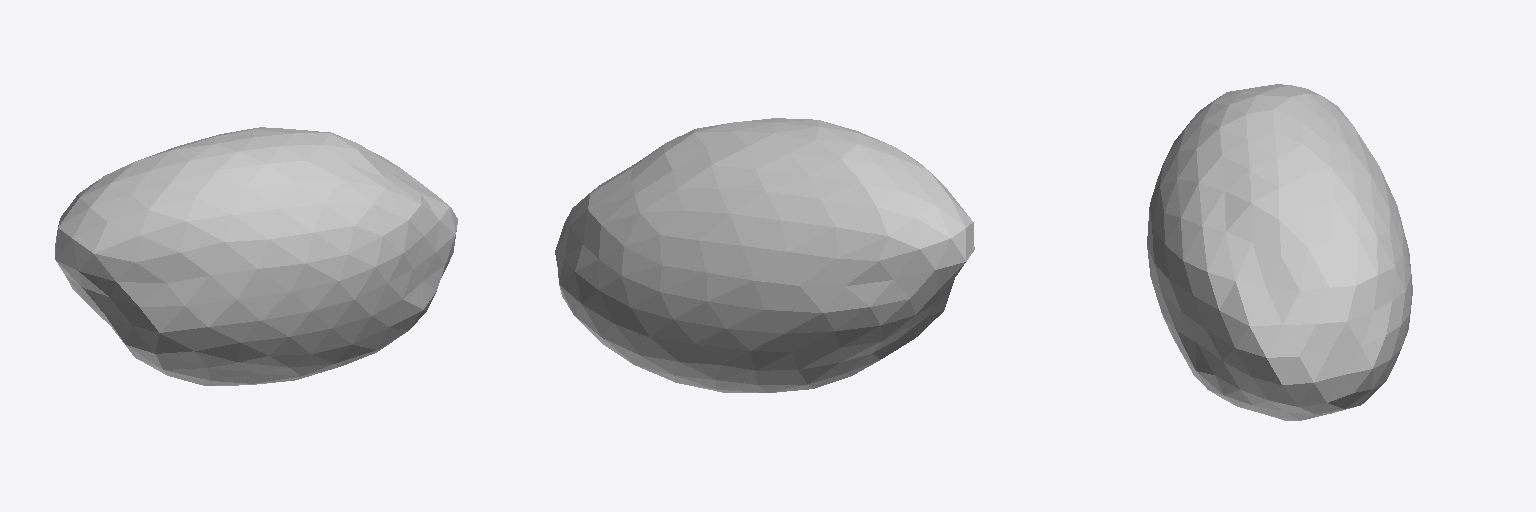
The model's file is potatoes.obj.
The picture shows the model from 3 angles: view 1: azimuth 30°, elevation 25°; view 2: azimuth 150°, elevation 25°; view 3: azimuth 270°, elevation 25°; orthographic projection.
Visible parts, largest first — view 1: PotatoC; view 2: PotatoC; view 3: PotatoC.
Boxes of the visible parts, box(x1,y1,x2,y2) form: PotatoC: box(55, 127, 457, 385); PotatoC: box(555, 118, 974, 392); PotatoC: box(1147, 84, 1412, 420).
Bounding box in the file's own units: 10.92 × 6.55 × 6.31.